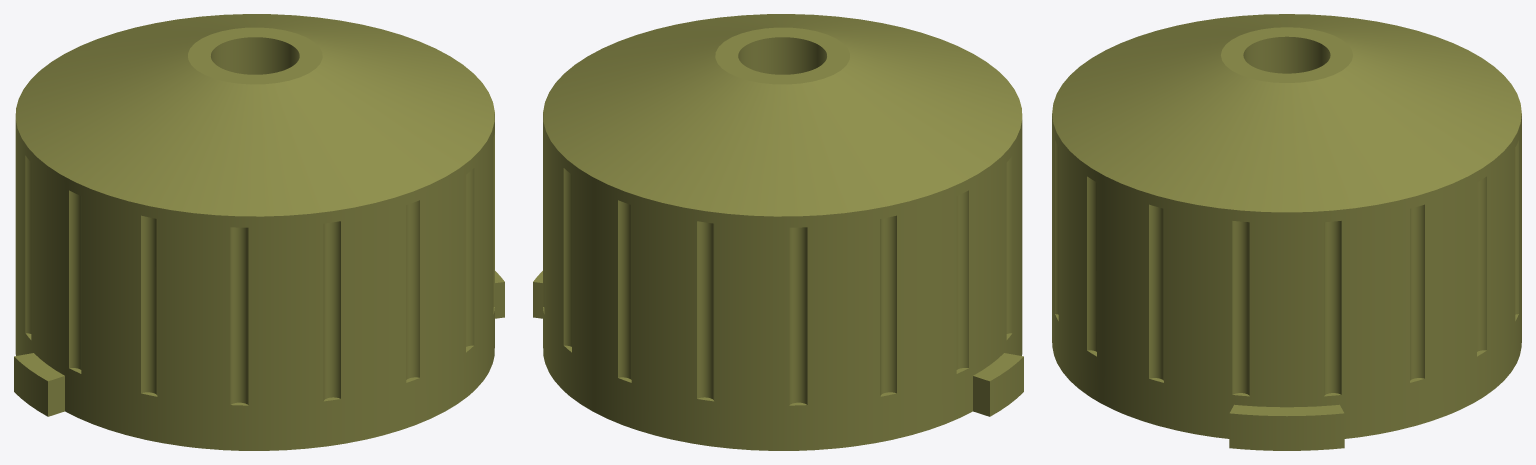
Rendered from mixer_part1_outer_cap.glb.
3 renders of one model, left to right at view 1: azimuth 30°, elevation 25°; view 2: azimuth 150°, elevation 25°; view 3: azimuth 270°, elevation 25°, orthographic. The views are drawn at different scales.
Parts seen in each view (by area): view 1: mixer_part1_outer_cap; view 2: mixer_part1_outer_cap; view 3: mixer_part1_outer_cap.
Part boxes in pixels (box(x1,y1,x2,y2)): mixer_part1_outer_cap: box(14, 14, 504, 450); mixer_part1_outer_cap: box(533, 14, 1023, 450); mixer_part1_outer_cap: box(1052, 14, 1521, 450).
Size of the model in its own units: 0.024 by 0.0149 by 0.022.
